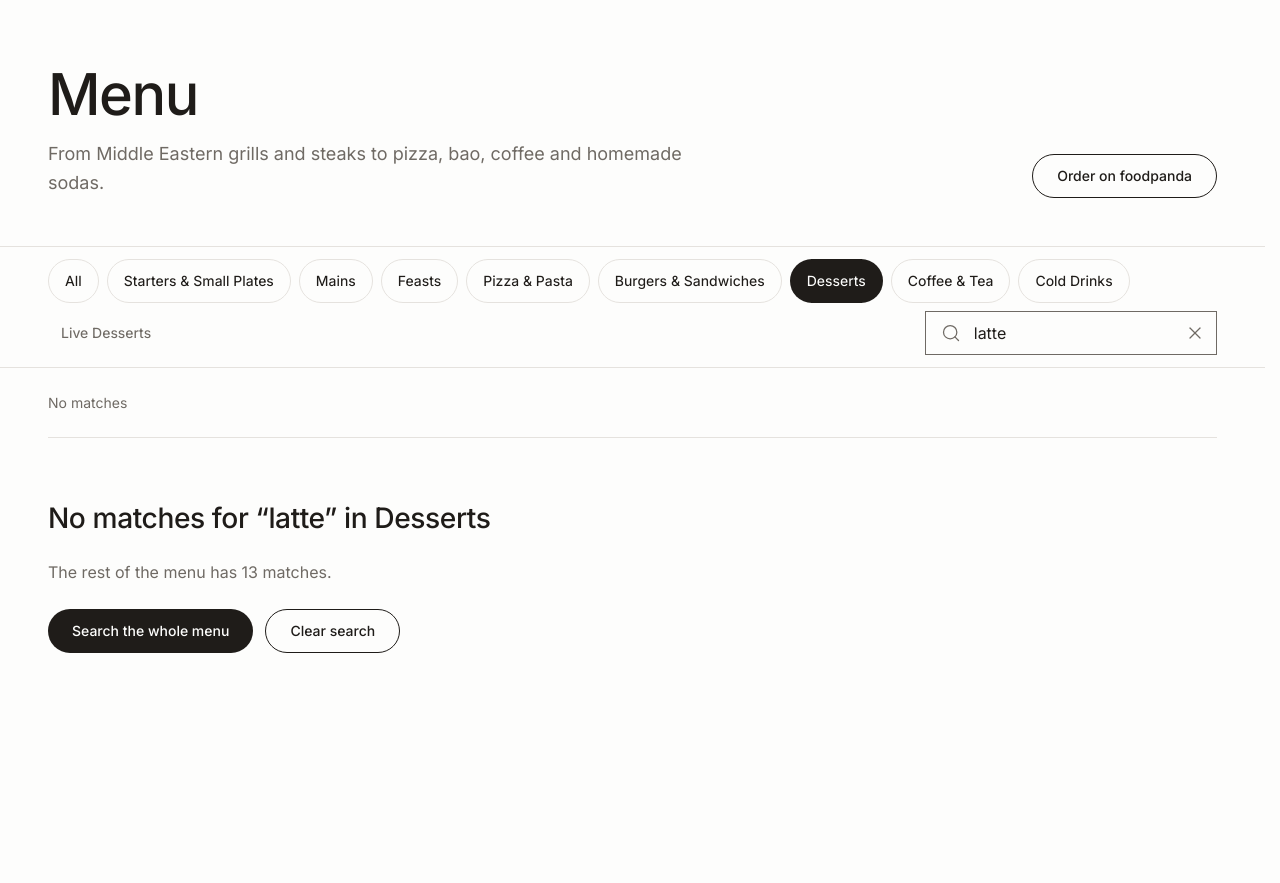
Test: Menu page › offers the whole menu when the search only misses in one group
The width and height of the screenshot is (1280, 883).
Check: the heading "No matches for “latte” in Desserts" is shown, box [48, 502, 490, 536]
What coordinates should you click on to do the following:
click the button "Search the whole menu"
I would click on:
 (151, 631)
Its box is [48, 609, 253, 653].
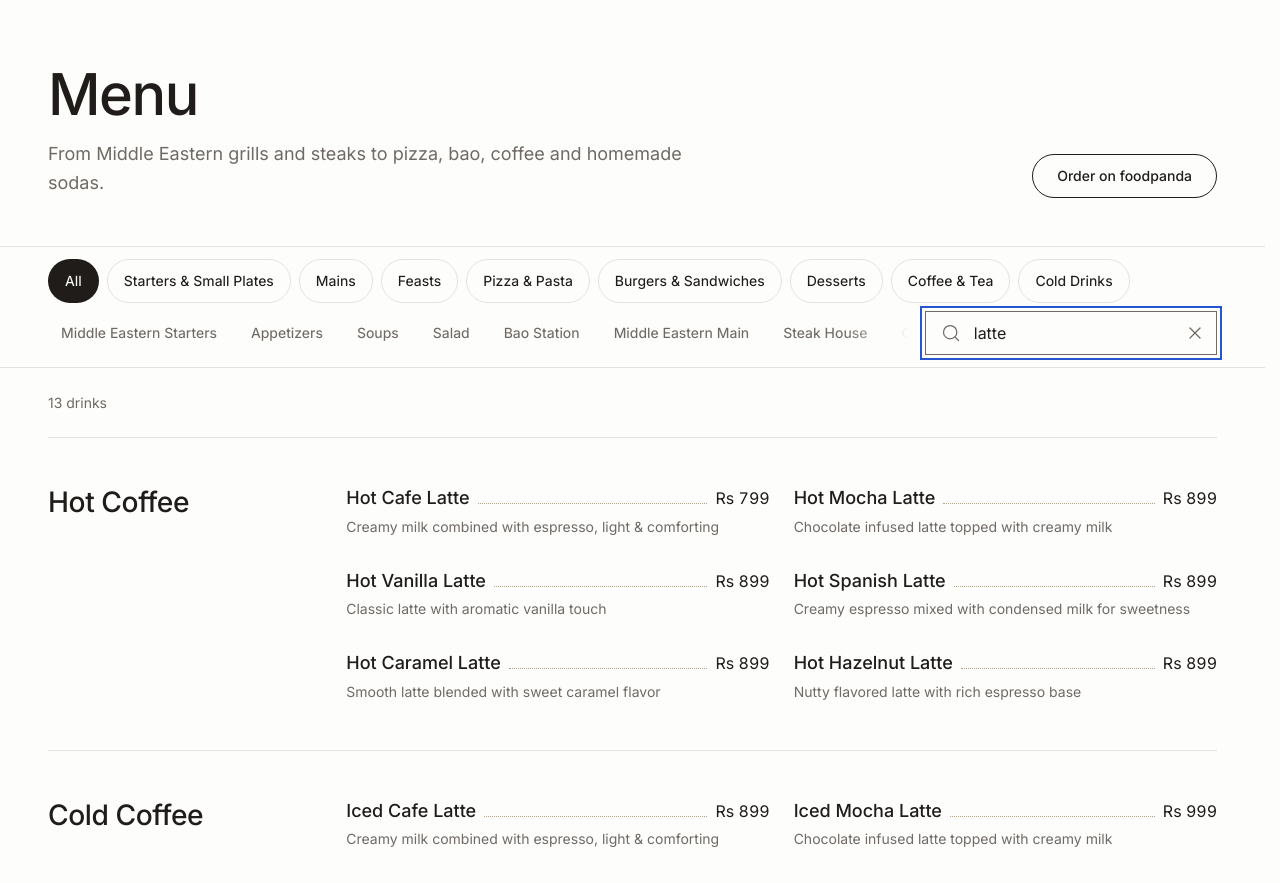
Check: the heading "Hot Spanish Latte" is shown, box [794, 569, 946, 593]
